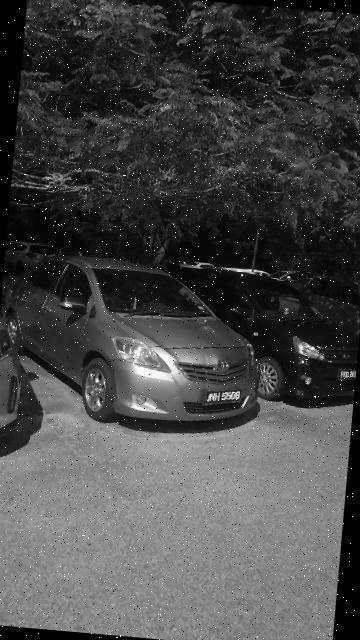License_Plate: (205, 386, 246, 408), (340, 365, 358, 384)
car: (1, 250, 270, 434), (155, 265, 360, 407)
